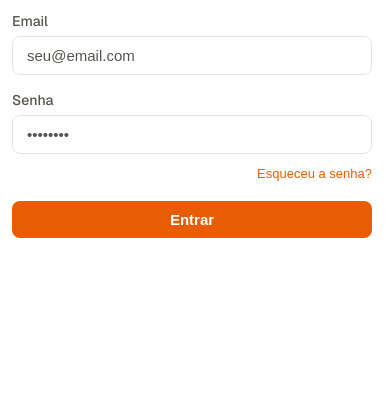
Test: LoginForm › Link "Esqueceu a senha?" › deve mostrar o formulário de recuperação ao clicar
Click the button with test id "forgot-password-link": (315, 174) [257,162,372,185]
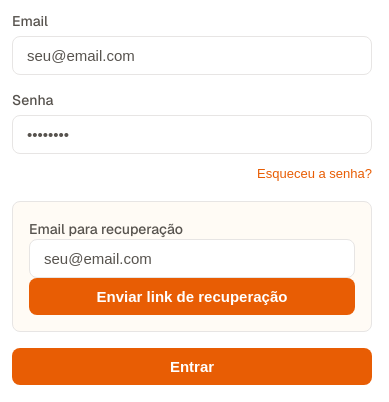
Expected: the field with test id "forgot-password-email" is shown, [29,239,355,278]
Expected: the button with test id "forgot-password-submit" is shown, [29,278,355,315]
